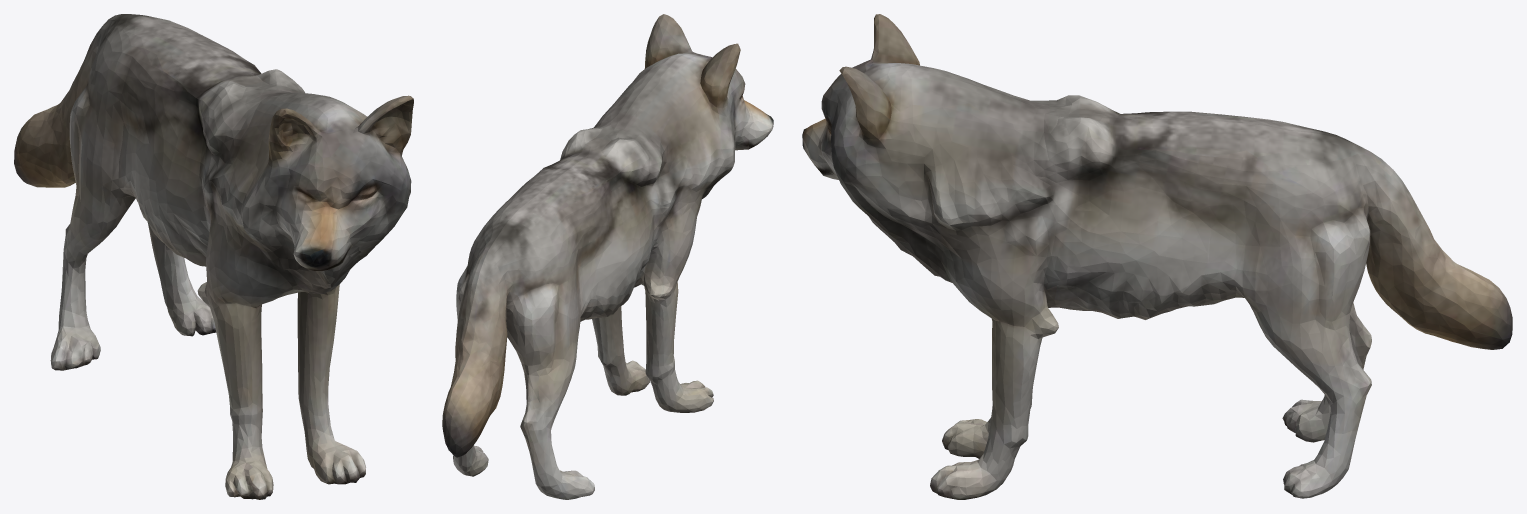
Rendered from loup.glb.
The picture shows the model from 3 angles, left to right: view 1: azimuth 30°, elevation 25°; view 2: azimuth 150°, elevation 25°; view 3: azimuth 270°, elevation 25°; orthographic projection. The views are drawn at different scales.
Parts seen in each view (by area): view 1: world; view 2: world; view 3: world.
Boxes of the visible parts, <box> form: world: <box>14,14,413,499</box>; world: <box>442,14,773,499</box>; world: <box>802,14,1512,499</box>.
Bounding box in the file's own units: 0.2871 × 0.6689 × 0.9981.
Materials: 1 (1 with a texture image).
